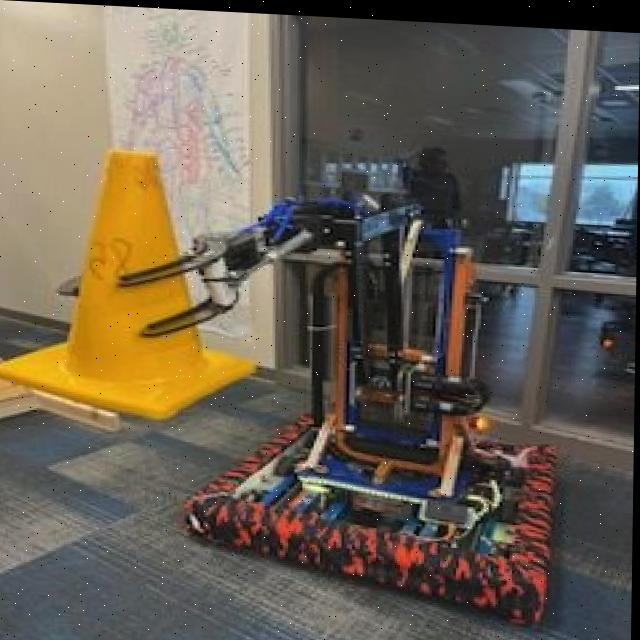robot: (16, 157, 578, 618)
